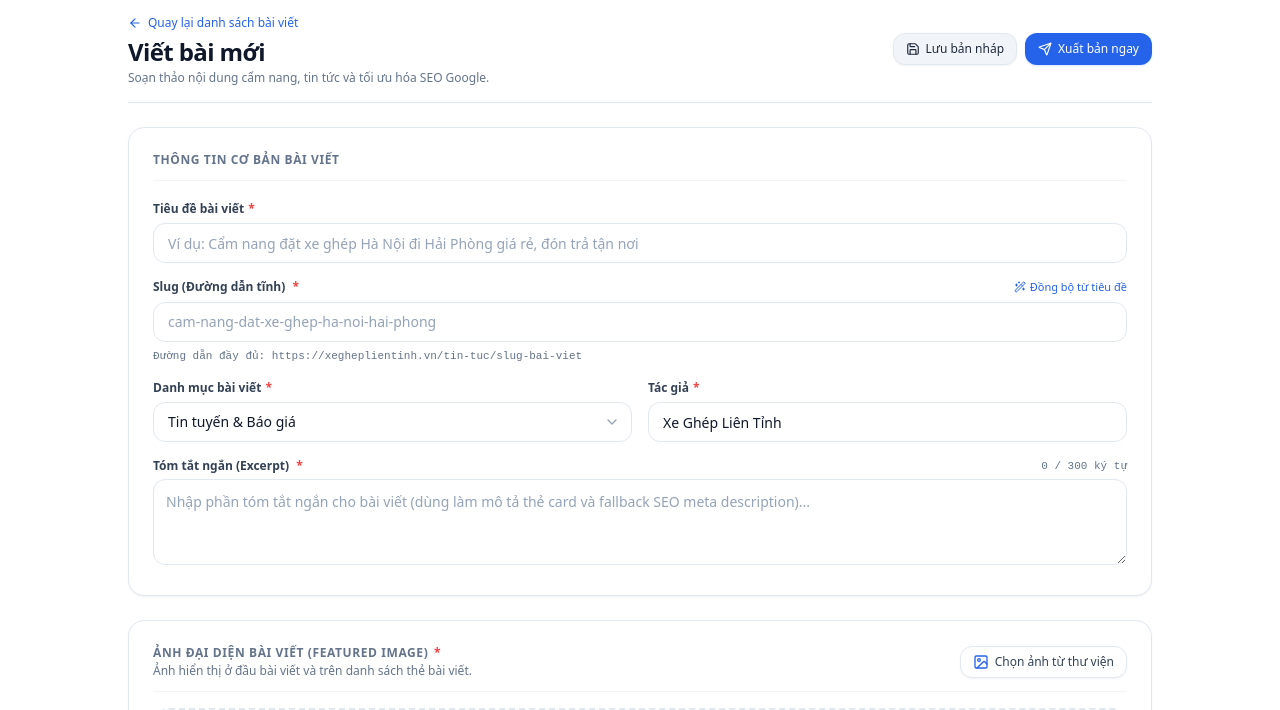
Test: Articles Module (Task T112) › ArticleForm Component › kiểm tra validation khi gửi form thiếu thông tin bắt buộc
This screenshot has width=1280, height=710.
Click the button with test id "publish-btn" at (1089, 49), box [1025,33,1152,65]
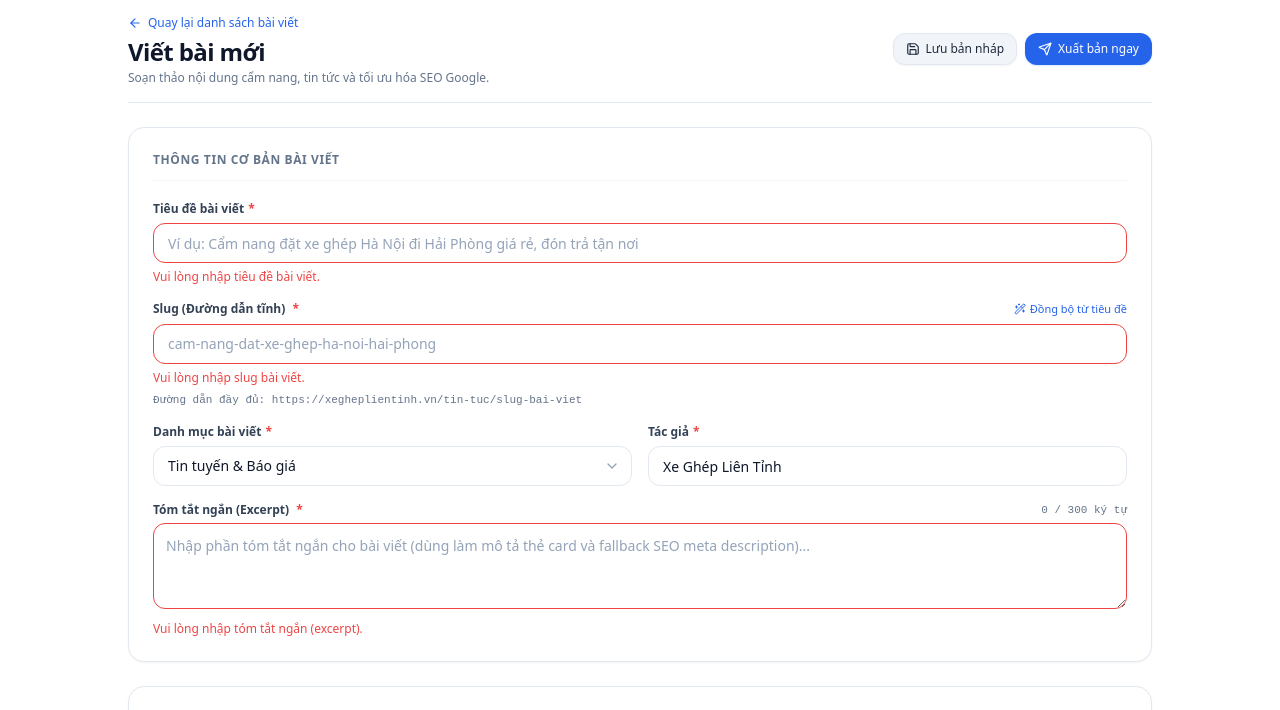
Result: the text "Vui lòng nhập tiêu đề bài viết." is shown at [153,268,320,285]
Result: the text "Vui lòng nhập tóm tắt ngắn (excerpt)." is shown at [153,620,363,636]
